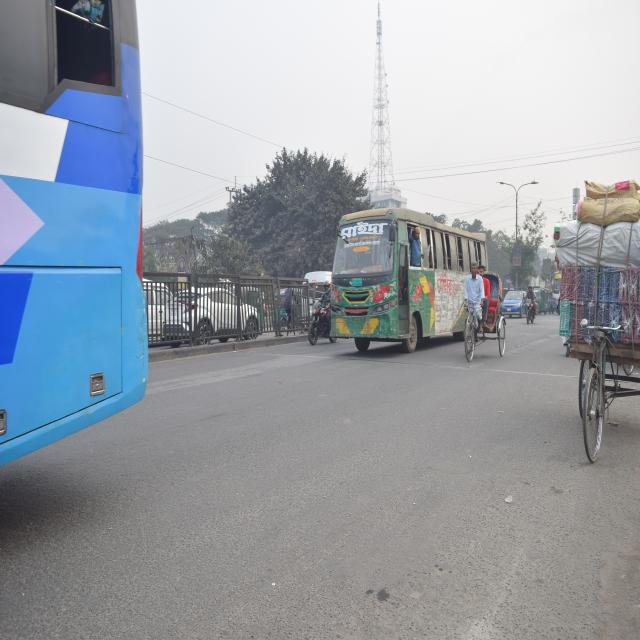bus: (0, 0, 176, 490), (332, 193, 502, 367)
car: (503, 278, 527, 332)
motorbike: (299, 292, 331, 348), (525, 299, 541, 330)
